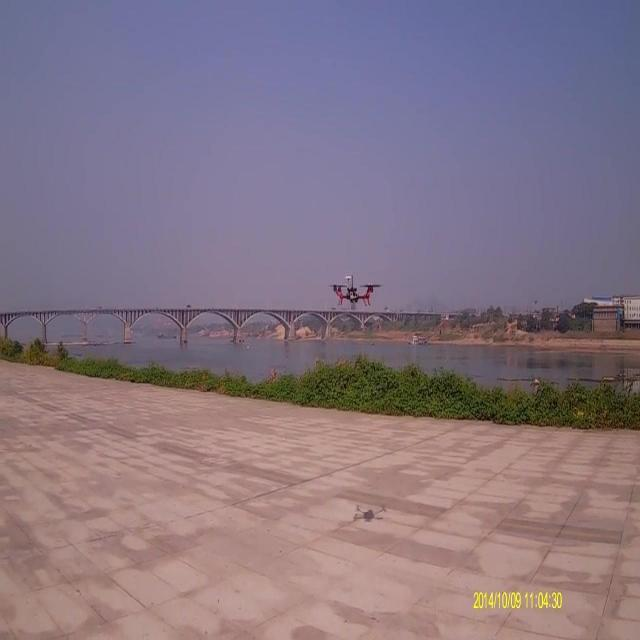UAV: (332, 274, 376, 308)
